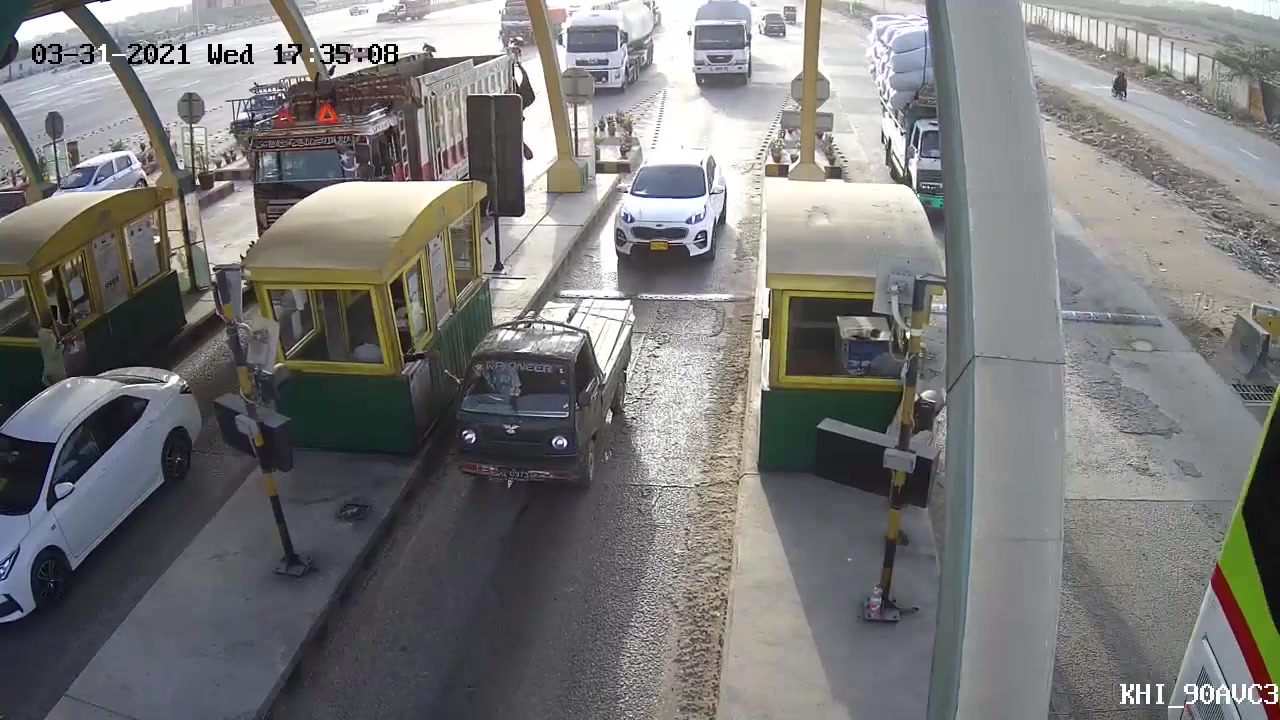F1: (452, 286, 638, 517)
